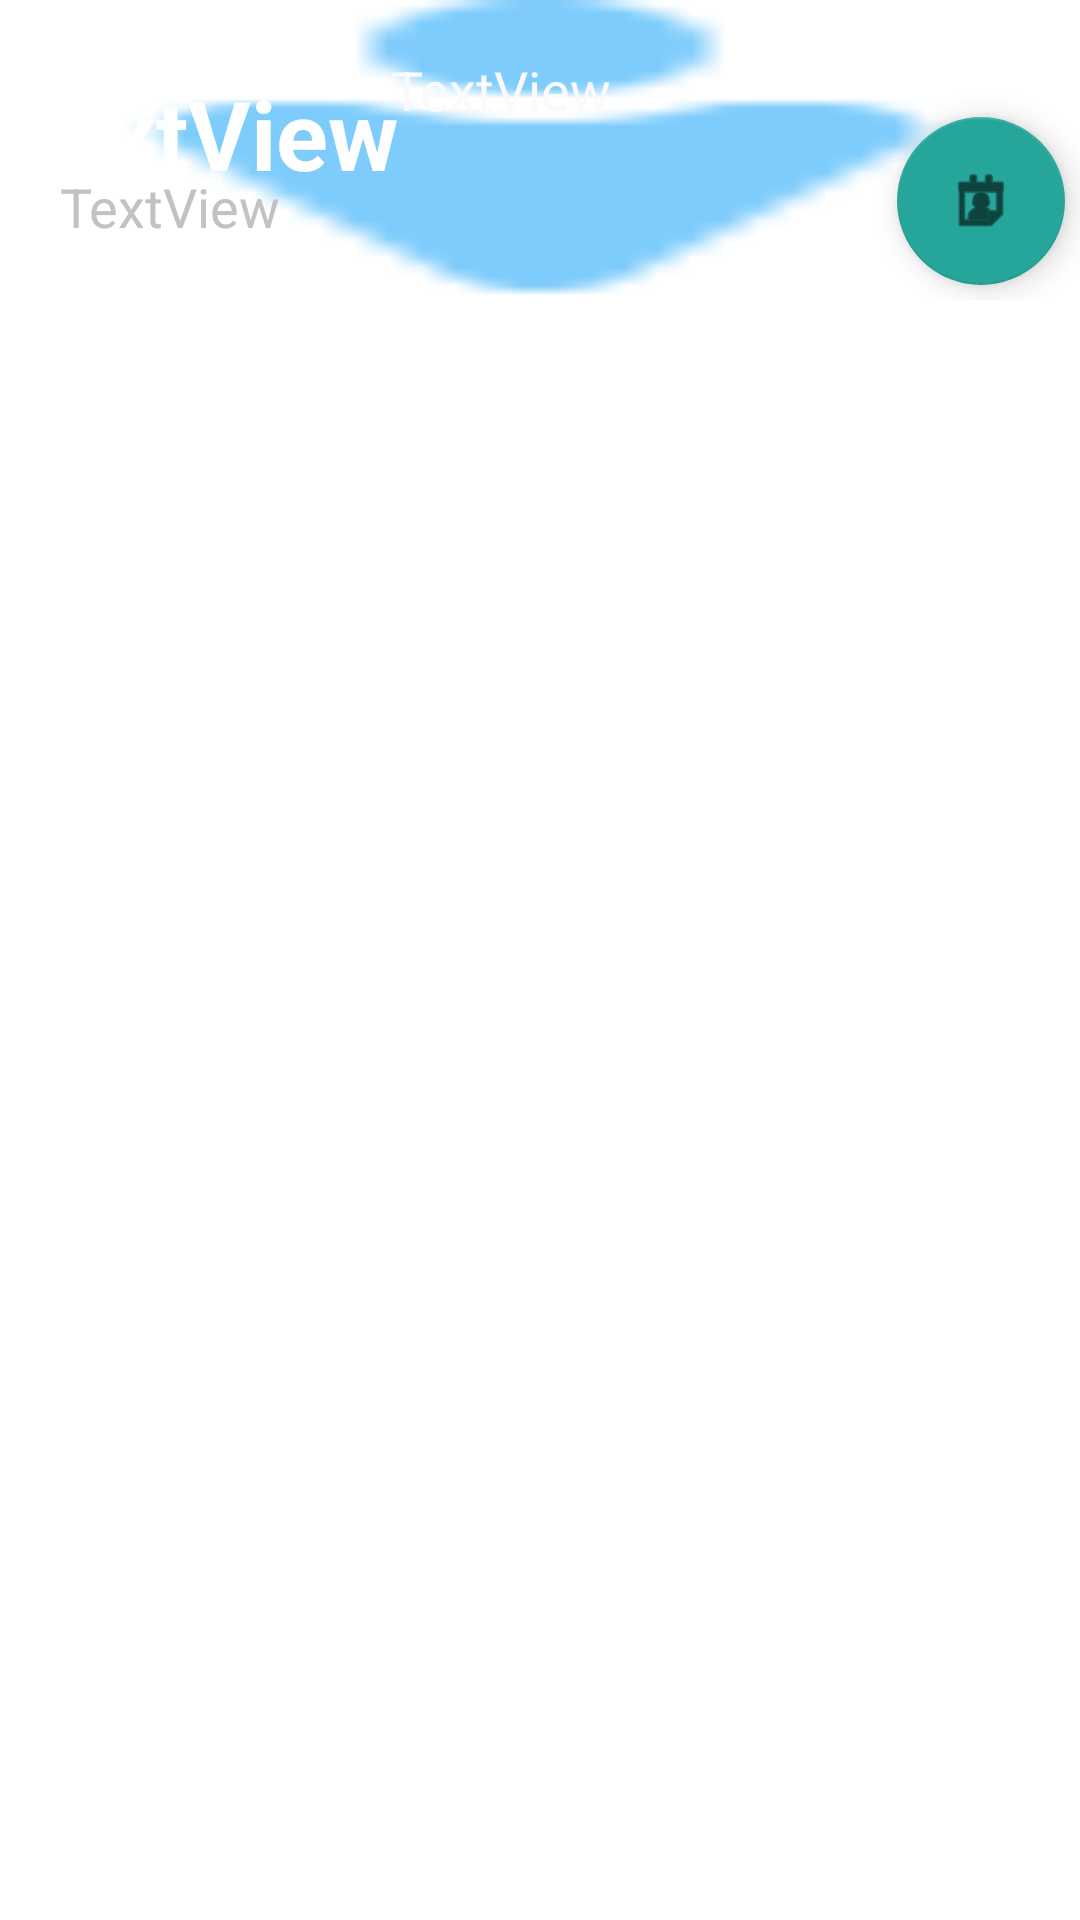

Where to tap for icons on this 1080x1920 app screen, as point (x, y):
calendar: point (981, 201)
